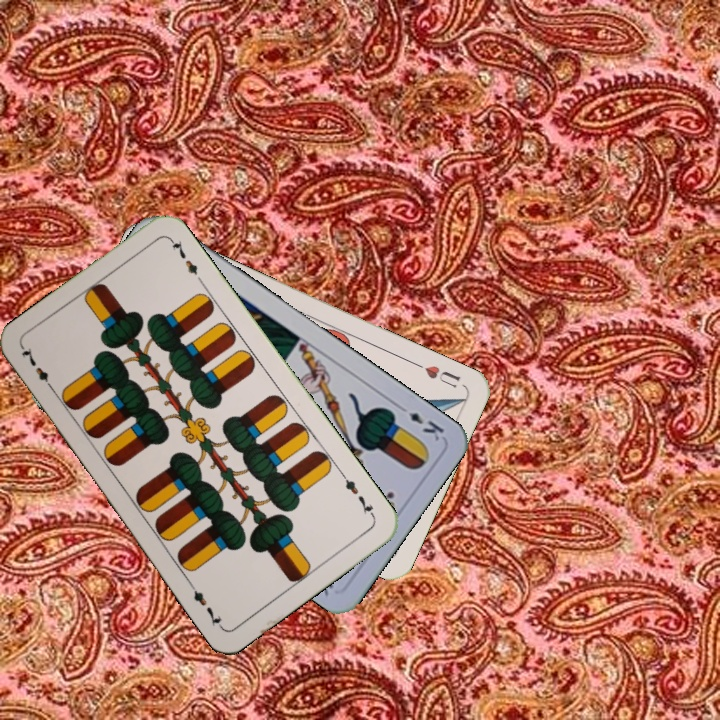E7: (337, 469, 378, 520), (18, 343, 58, 395)
EK: (393, 400, 447, 444)
HU: (410, 358, 464, 391)
